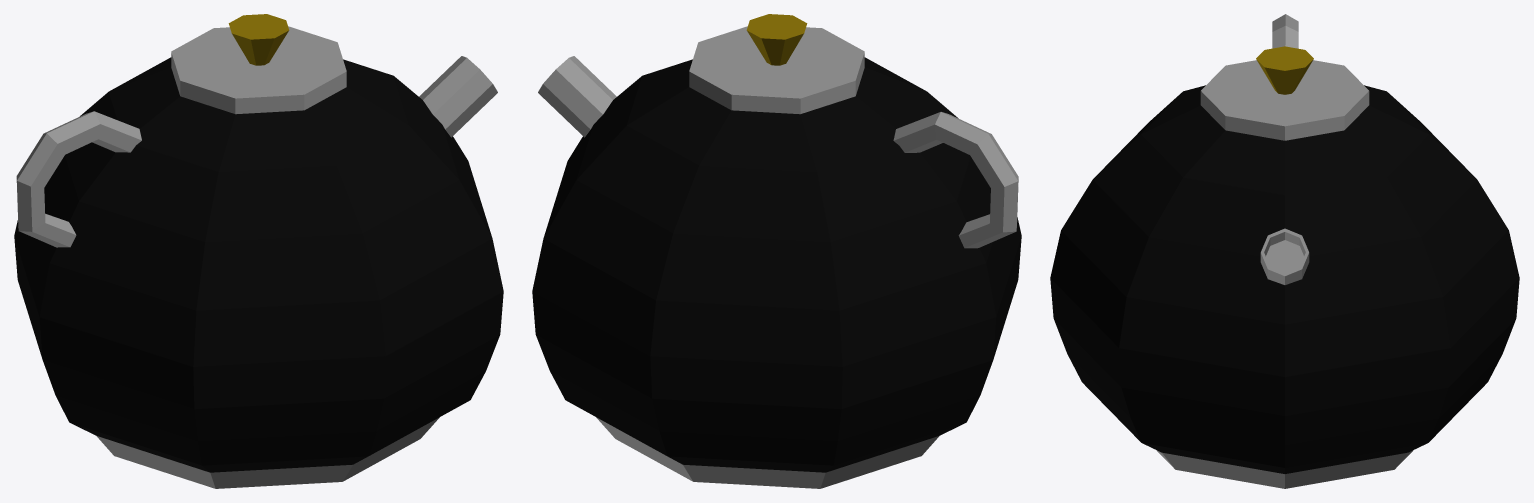
The model's file is Kettle.fbx.
The picture shows the model from 3 angles, left to right: view 1: azimuth 30°, elevation 25°; view 2: azimuth 150°, elevation 25°; view 3: azimuth 270°, elevation 25°; orthographic projection. The views are drawn at different scales.
Parts seen in each view (by area): view 1: Cylinder; view 2: Cylinder; view 3: Cylinder.
Boxes of the visible parts, x1=… form: Cylinder: x1=14, y1=14, x2=503, y2=488; Cylinder: x1=532, y1=14, x2=1021, y2=488; Cylinder: x1=1050, y1=14, x2=1519, y2=488.
Size of the model in its own units: 29.35 by 23.24 by 27.1.
